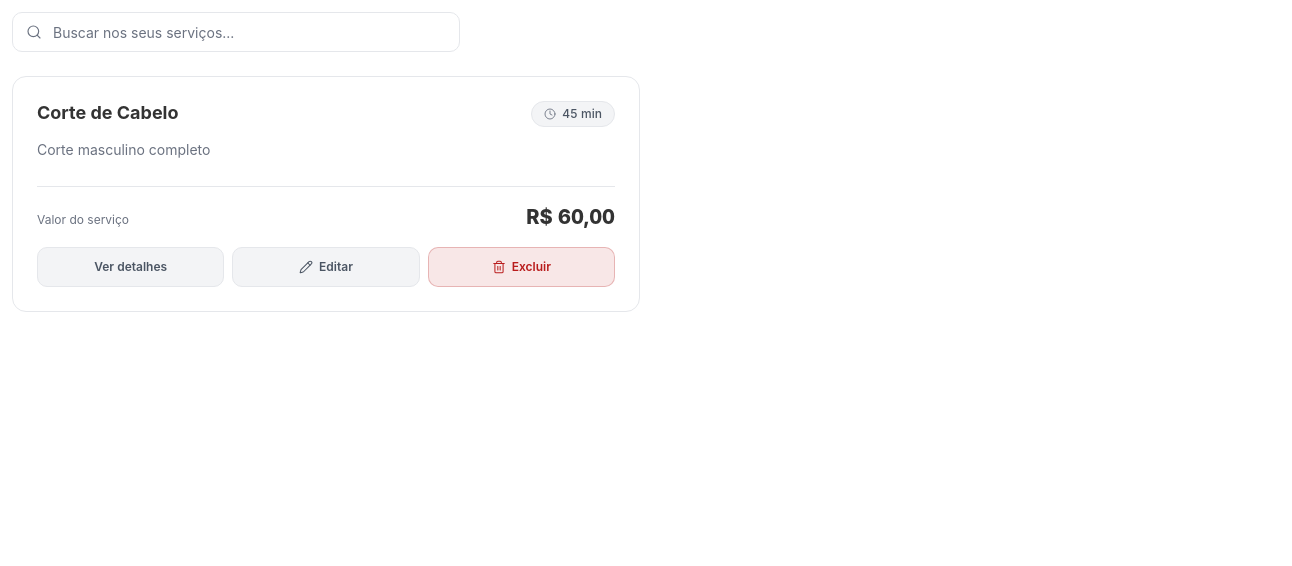
Test: ServiceList Component › permite ao profissional dono editar o próprio serviço inline e atualizar o card
Click the button with aria-label "Editar serviço Corte de Cabelo" at (326, 267), box top-left (232, 247), bottom-right (420, 287)
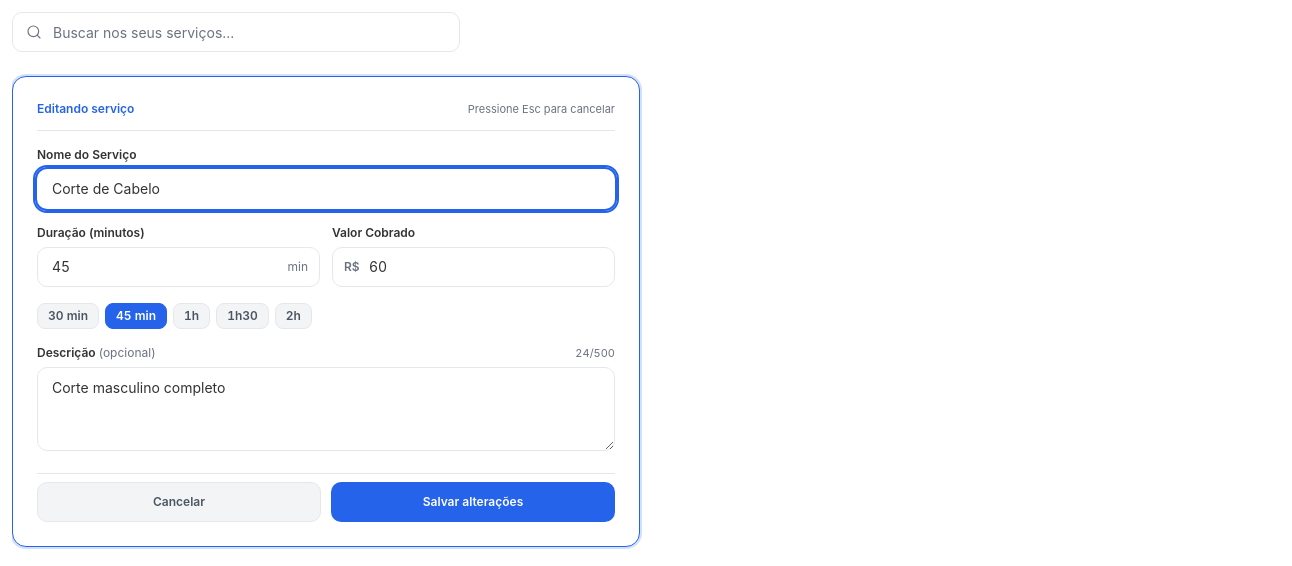
Replace the text in the field labelled "Nome do Serviço" with "Corte Degradê Premium" at (326, 188), box top-left (37, 168), bottom-right (615, 208)
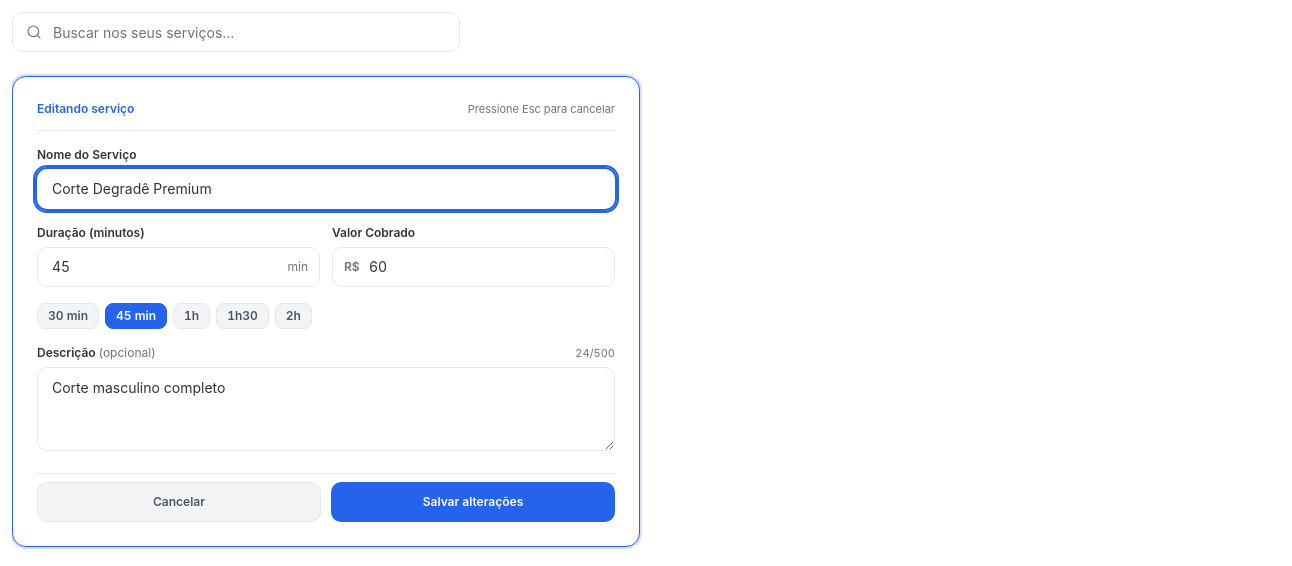
Replace the text in the number field labelled "Valor Cobrado" with "85" at (474, 266), box top-left (332, 246), bottom-right (615, 286)
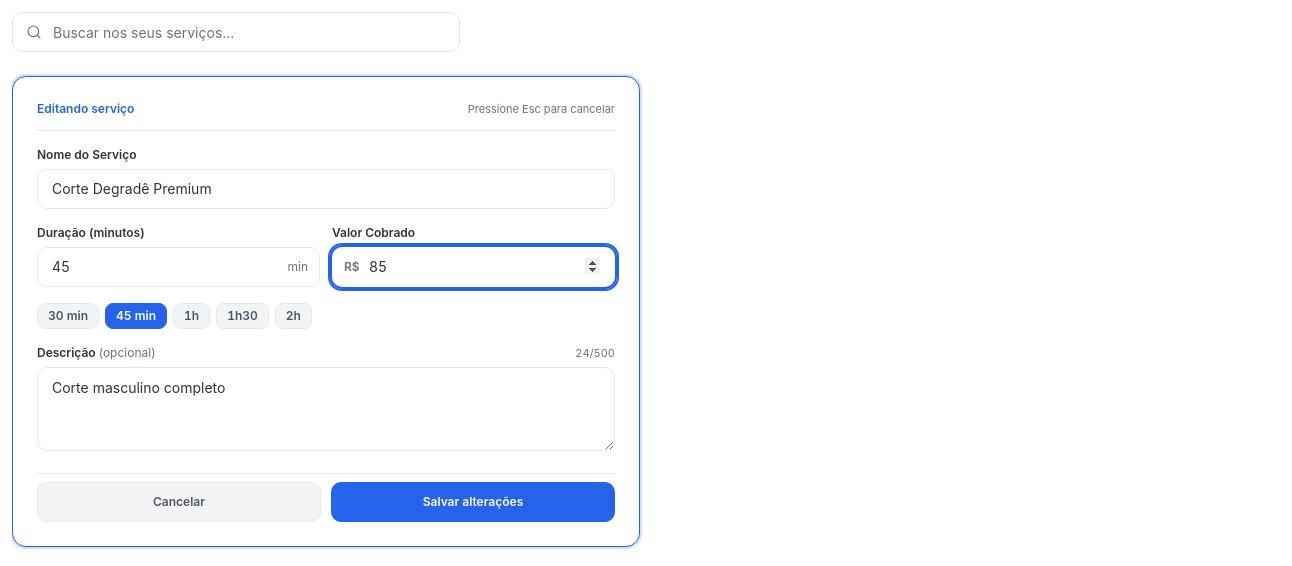
Click the button "1h" at (192, 316), box top-left (173, 302), bottom-right (210, 328)
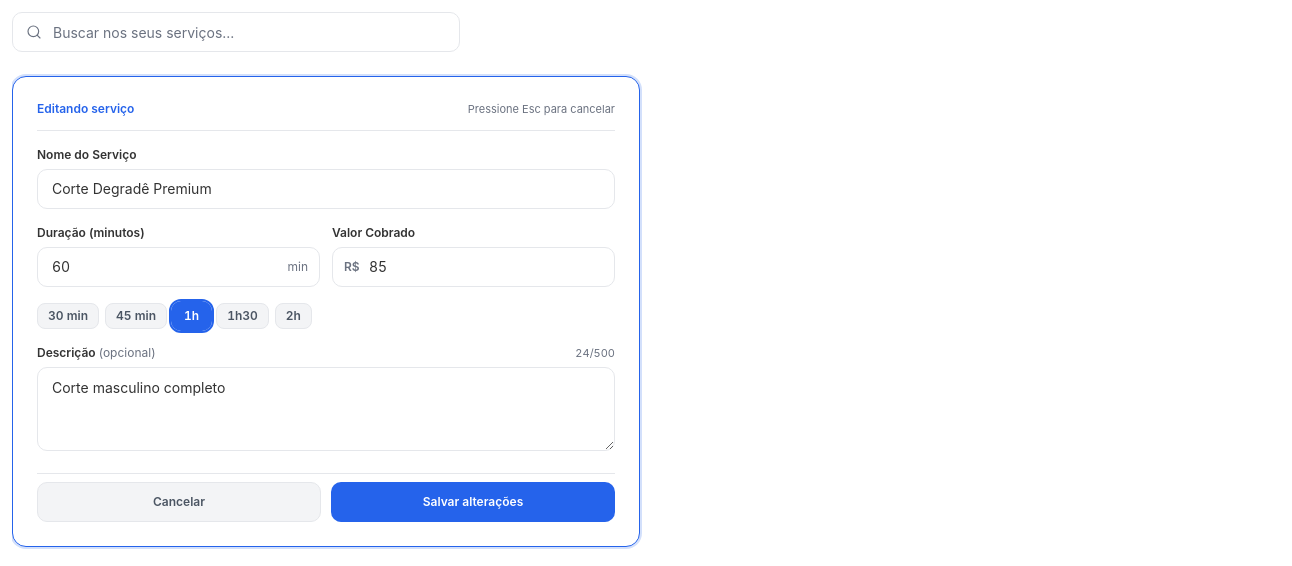
Click the button "Salvar alterações" at (473, 502), box top-left (331, 482), bottom-right (615, 522)
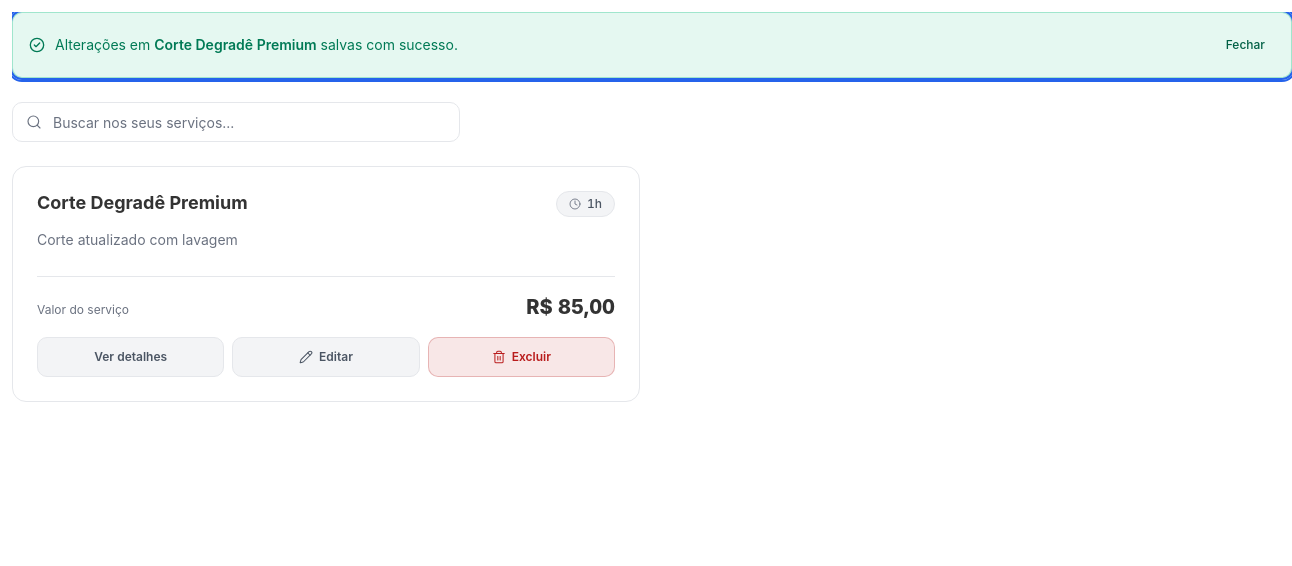
Expected: the text "1h" is shown, top-left (556, 191), bottom-right (615, 217)
Expected: the message shows "Alterações em Corte Degradê Premium salvas com sucesso", top-left (12, 12), bottom-right (1291, 78)
Expected: the heading "Corte Degradê Premium" is shown, top-left (37, 191), bottom-right (248, 216)
